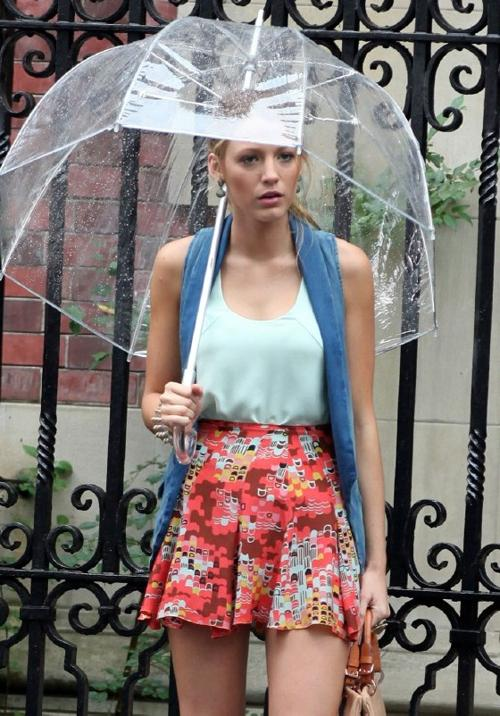person: (137, 89, 392, 714)
